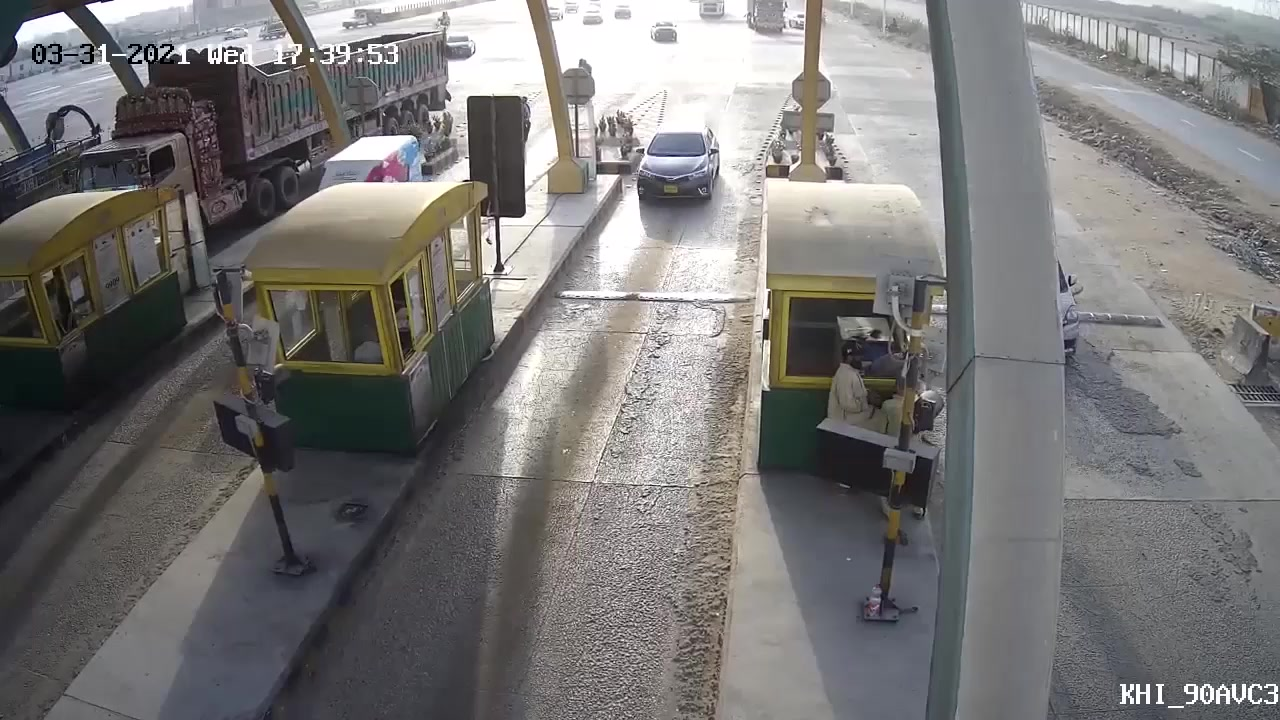F1: (634, 124, 737, 216)
